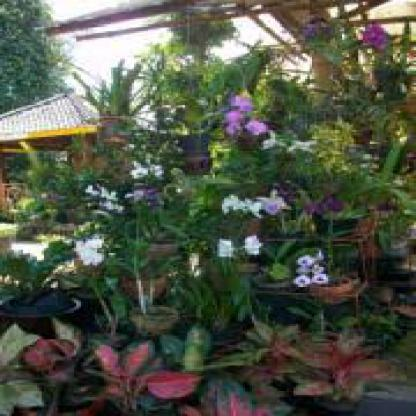ANGGREK: (24, 52, 401, 338)
